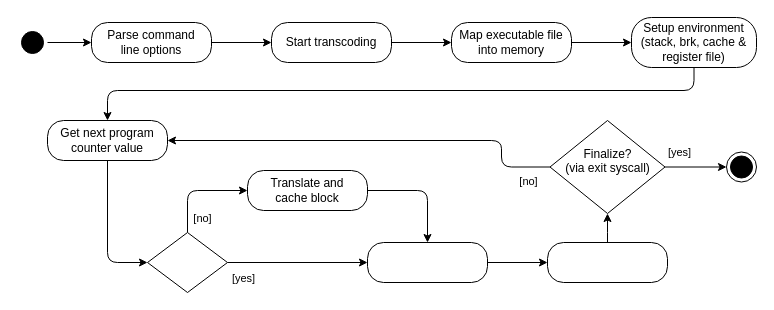
Image size: 774x310. Some labels were removed from this diagram. Each missing label, with the centre of its shape:
"Block cached?" belongs at point (187, 262).
"Execute cached block" belongs at point (607, 262).
"Retrieve block from cache" belongs at point (427, 262).
